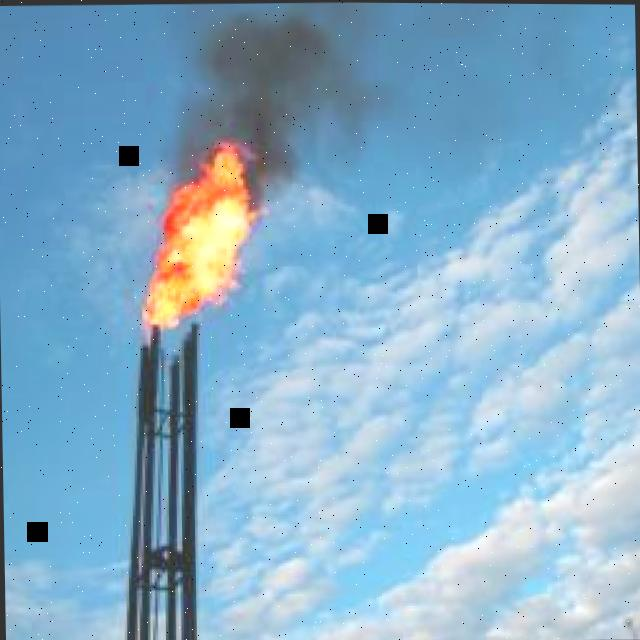fire: (141, 139, 268, 346)
smoke: (168, 2, 400, 205)
